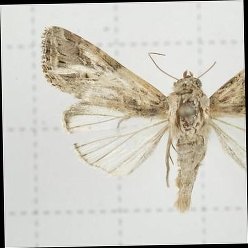Spodoptera litura: (42, 23, 246, 214)
